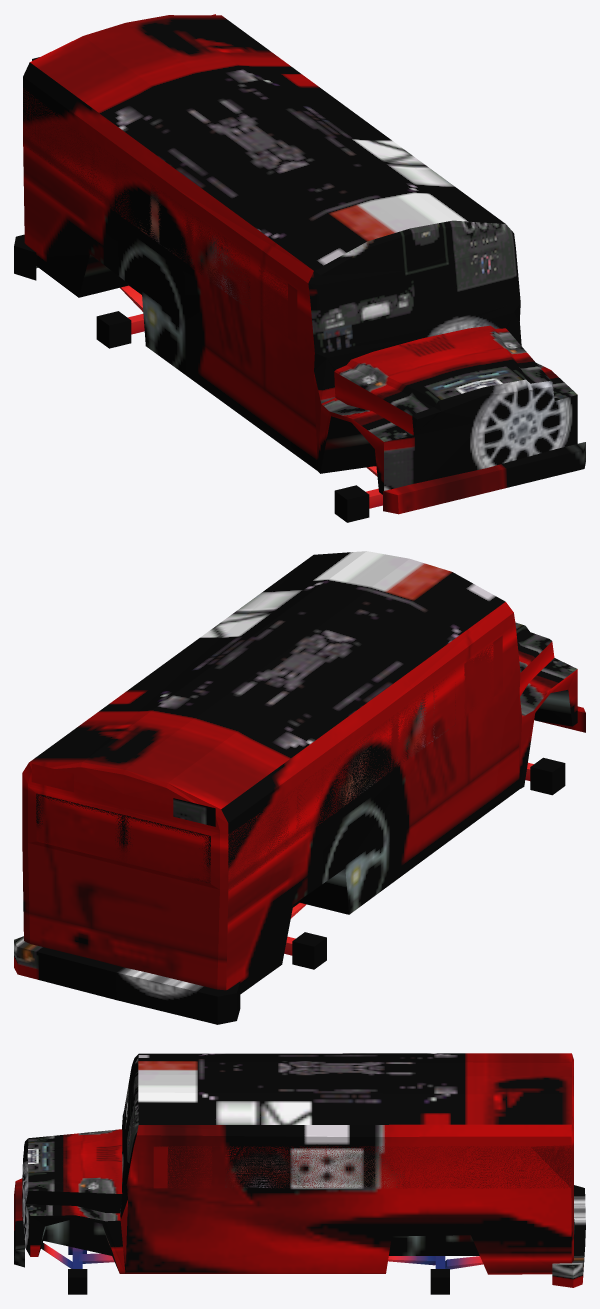
Rendered from schoolbuss.obj.
The picture shows the model from 3 angles, top to bottom: view 1: azimuth 30°, elevation 25°; view 2: azimuth 150°, elevation 25°; view 3: azimuth 270°, elevation 25°; orthographic projection. The views are drawn at different scales.
Parts seen in each view (by area): view 1: body.prm0_Material#1, wheel.03_body.prm0_Material#1.002, wheel.01_body.prm0_Material#1.004; view 2: body.prm0_Material#1, wheel.01_body.prm0_Material#1.004, wheel.03_body.prm0_Material#1.002; view 3: body.prm0_Material#1, wheel.00_body.prm0_Material#1.003, wheel.02_body.prm0_Material#1.001.
Part boxes in pixels (x1,y1,x2,y2): body.prm0_Material#1: (14, 14, 585, 514); wheel.03_body.prm0_Material#1.002: (96, 311, 131, 348); wheel.01_body.prm0_Material#1.004: (334, 485, 369, 522); body.prm0_Material#1: (14, 551, 585, 1024); wheel.01_body.prm0_Material#1.004: (530, 757, 565, 795); wheel.03_body.prm0_Material#1.002: (292, 932, 326, 969); body.prm0_Material#1: (14, 1053, 585, 1287); wheel.00_body.prm0_Material#1.003: (68, 1269, 87, 1294); wheel.02_body.prm0_Material#1.001: (430, 1269, 449, 1294).
Size of the model in its own units: 1.8 by 1.83 by 5.24.
